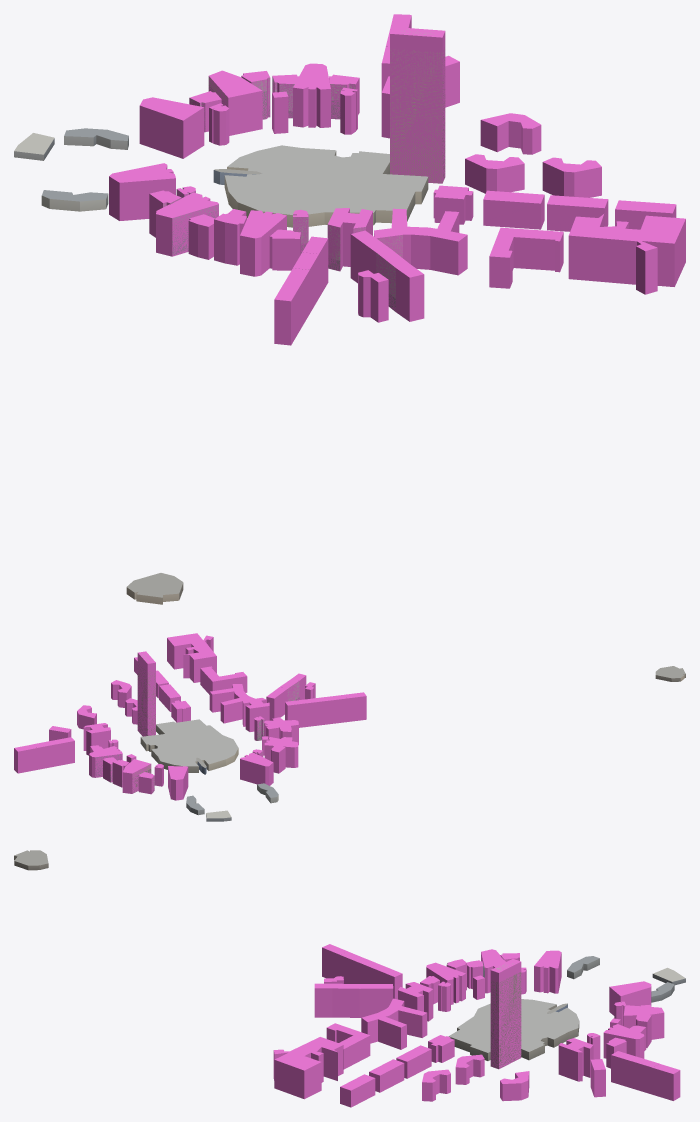
Rendered from bld_5_4.fbx.
The picture shows the model from 3 angles, top to bottom: view 1: azimuth 30°, elevation 25°; view 2: azimuth 150°, elevation 25°; view 3: azimuth 270°, elevation 25°; orthographic projection. The views are drawn at different scales.
Parts seen in each view (by area): view 1: bld_5_4_COL, bld_5_4_LOD0; view 2: bld_5_4_COL, bld_5_4_LOD0; view 3: bld_5_4_COL, bld_5_4_LOD0.
Part boxes in pixels (box(x1,y1,x2,y2)): bld_5_4_COL: box(109, 14, 685, 345); bld_5_4_LOD0: box(14, 29, 445, 604); bld_5_4_COL: box(14, 633, 366, 800); bld_5_4_LOD0: box(95, 655, 685, 821); bld_5_4_COL: box(273, 944, 680, 1107); bld_5_4_LOD0: box(14, 850, 685, 1068).
Size of what is drawn, in the model's own units: 1302 by 232 by 1464.
